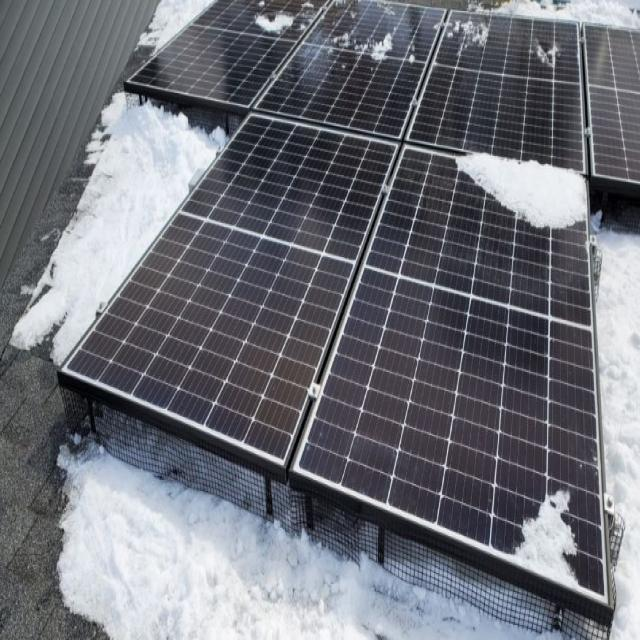snow covered: (245, 1, 577, 102), (439, 126, 590, 321), (491, 416, 599, 582)
